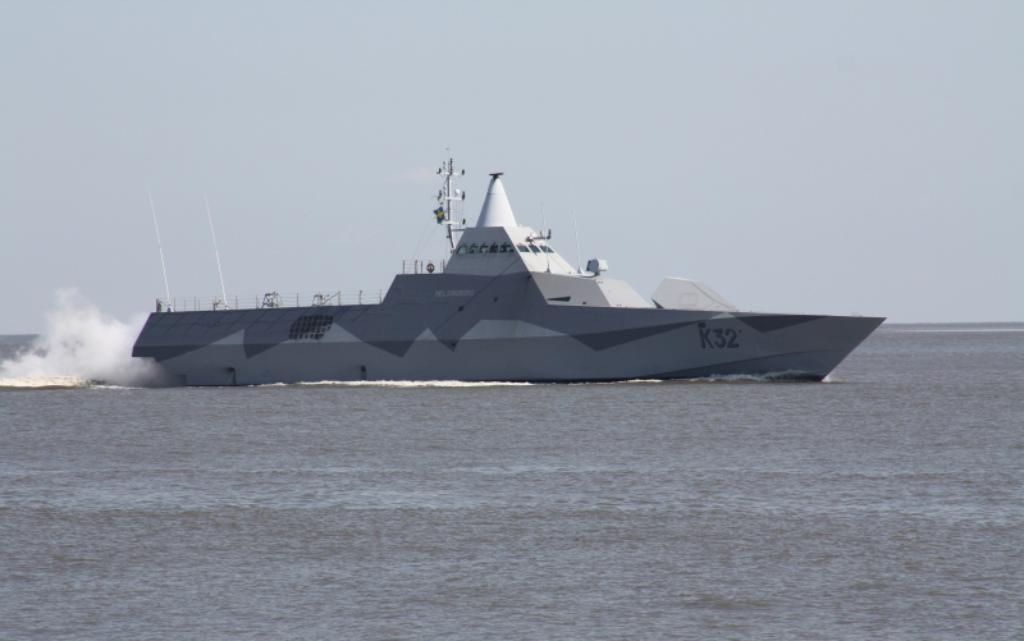Warship: (128, 140, 886, 388)
